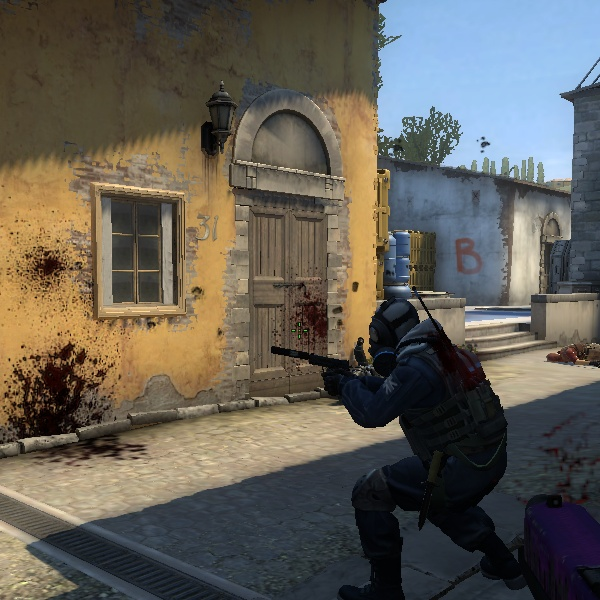ct_body: (277, 282, 544, 597)
ct_head: (347, 285, 441, 367)
